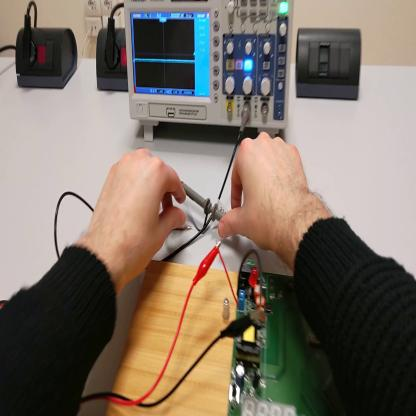hand: (90, 148, 187, 283), (221, 131, 311, 260)
low voltage board: (219, 247, 349, 415)
oscilloscope: (128, 2, 297, 143)
oscilloscope probe tip: (178, 182, 227, 218)
socket: (16, 27, 80, 92), (96, 24, 129, 92)
working area: (106, 262, 240, 416)
